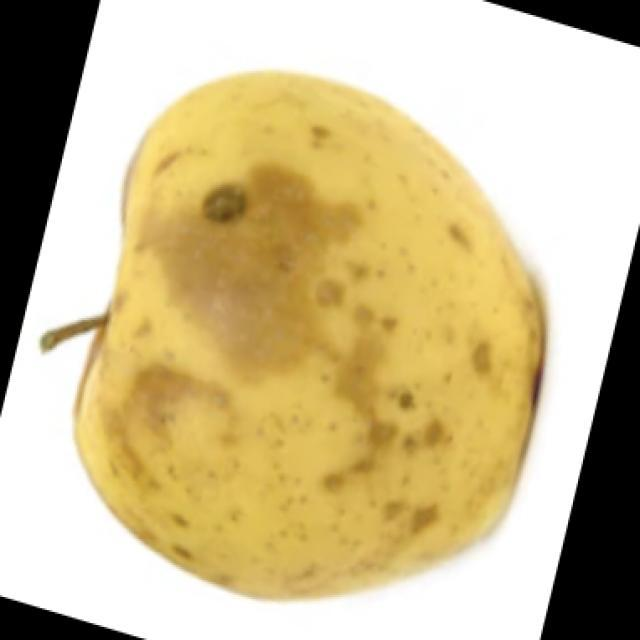Rotten: (80, 75, 528, 585)
